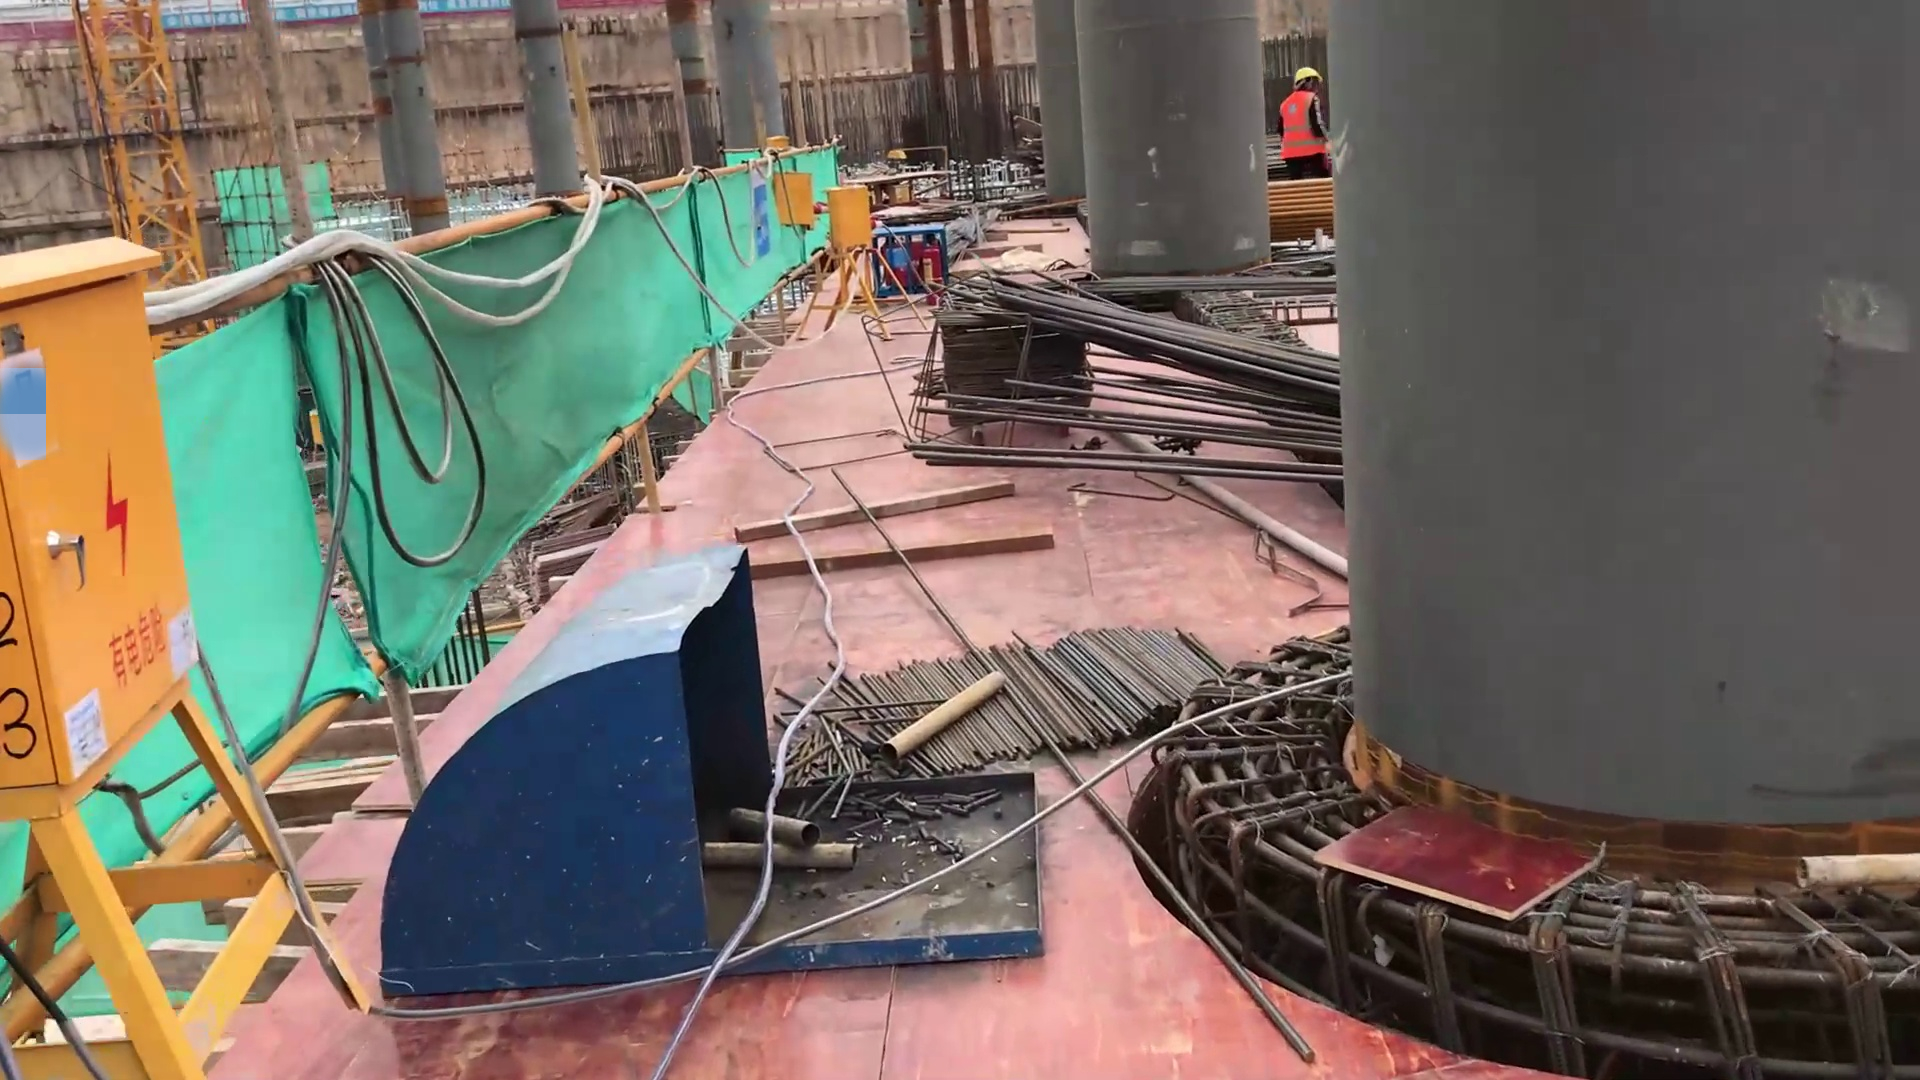cutter: (863, 159, 946, 210)
ebox: (1, 297, 254, 859), (824, 176, 884, 244), (759, 167, 798, 227)
helmet: (1294, 64, 1325, 82)
person: (1274, 56, 1326, 181)
rebar: (886, 240, 1347, 504)
vest: (1276, 91, 1321, 161)
